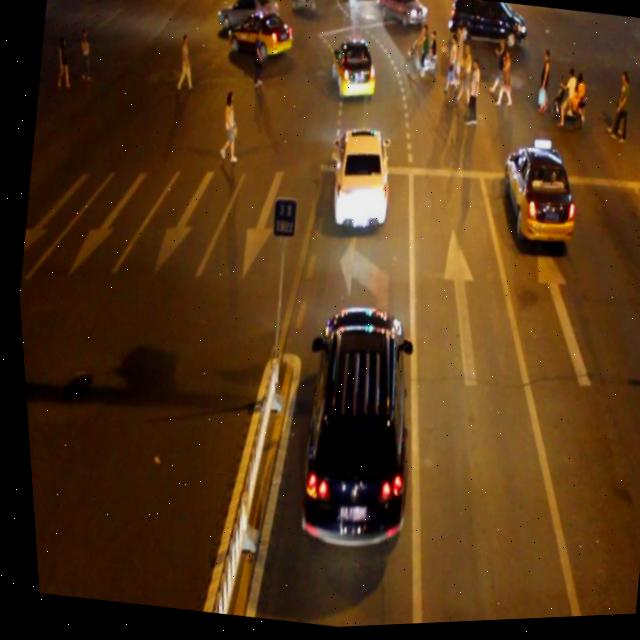car: (276, 300, 431, 559), (489, 142, 582, 255), (320, 126, 398, 239), (443, 0, 529, 59), (223, 6, 297, 69), (325, 37, 381, 107), (212, 0, 284, 41), (372, 0, 430, 37)
